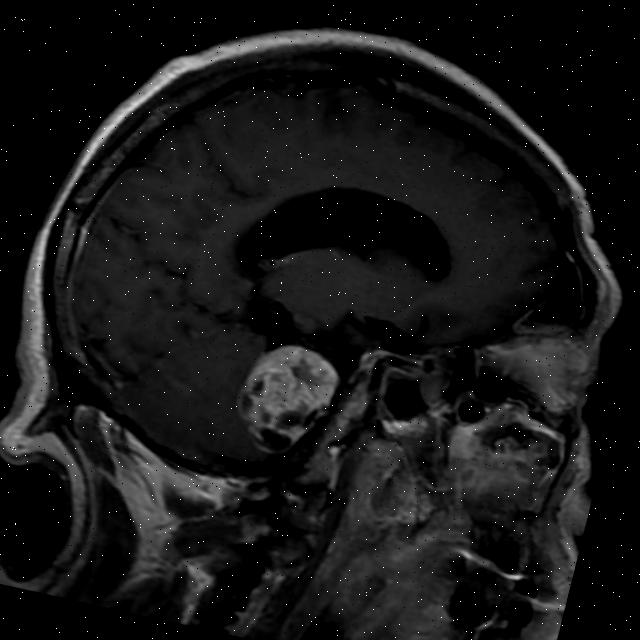Meningioma: (224, 333, 349, 466)
